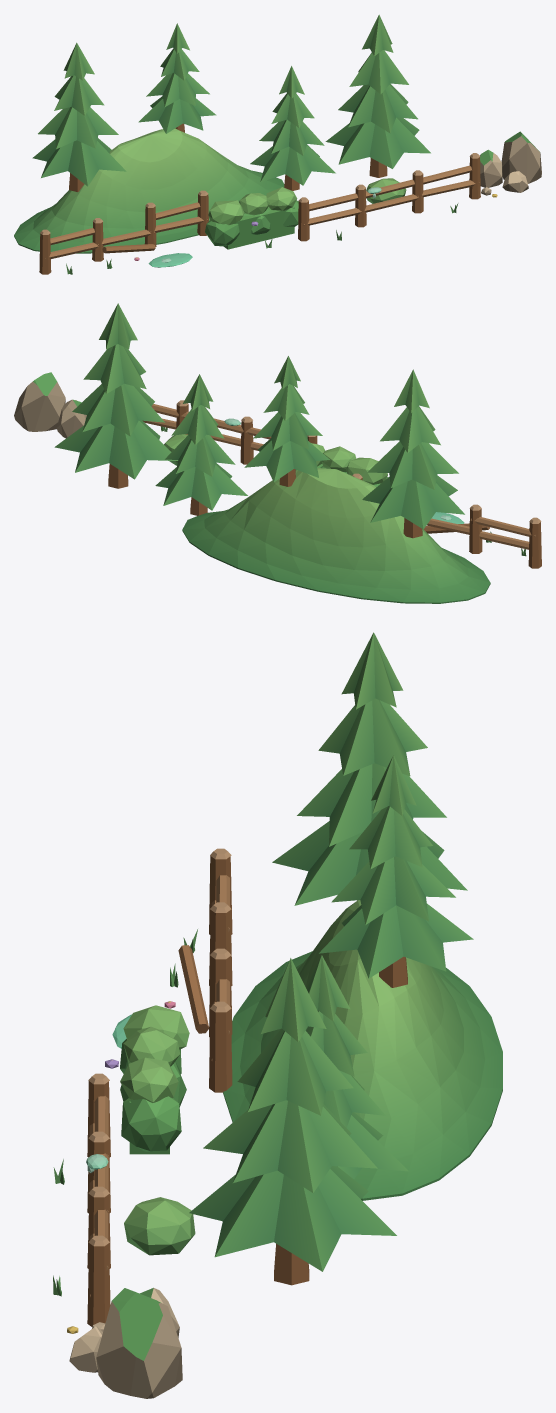
File: ranch_border_chunk_g_m.fbx
3 views of the same model, one above another, from view 1: azimuth 30°, elevation 25°; view 2: azimuth 150°, elevation 25°; view 3: azimuth 270°, elevation 25° (orthographic). The views are drawn at different scales.
Visible parts, largest first — view 1: ranch_border_chunk_g_m; view 2: ranch_border_chunk_g_m; view 3: ranch_border_chunk_g_m.
Boxes of the visible parts, box(x1,y1,x2,y2) form: ranch_border_chunk_g_m: box(14, 14, 541, 274); ranch_border_chunk_g_m: box(14, 303, 541, 603); ranch_border_chunk_g_m: box(53, 632, 502, 1398).
Size of the model in its own units: 54.98 by 20.24 by 22.21.
